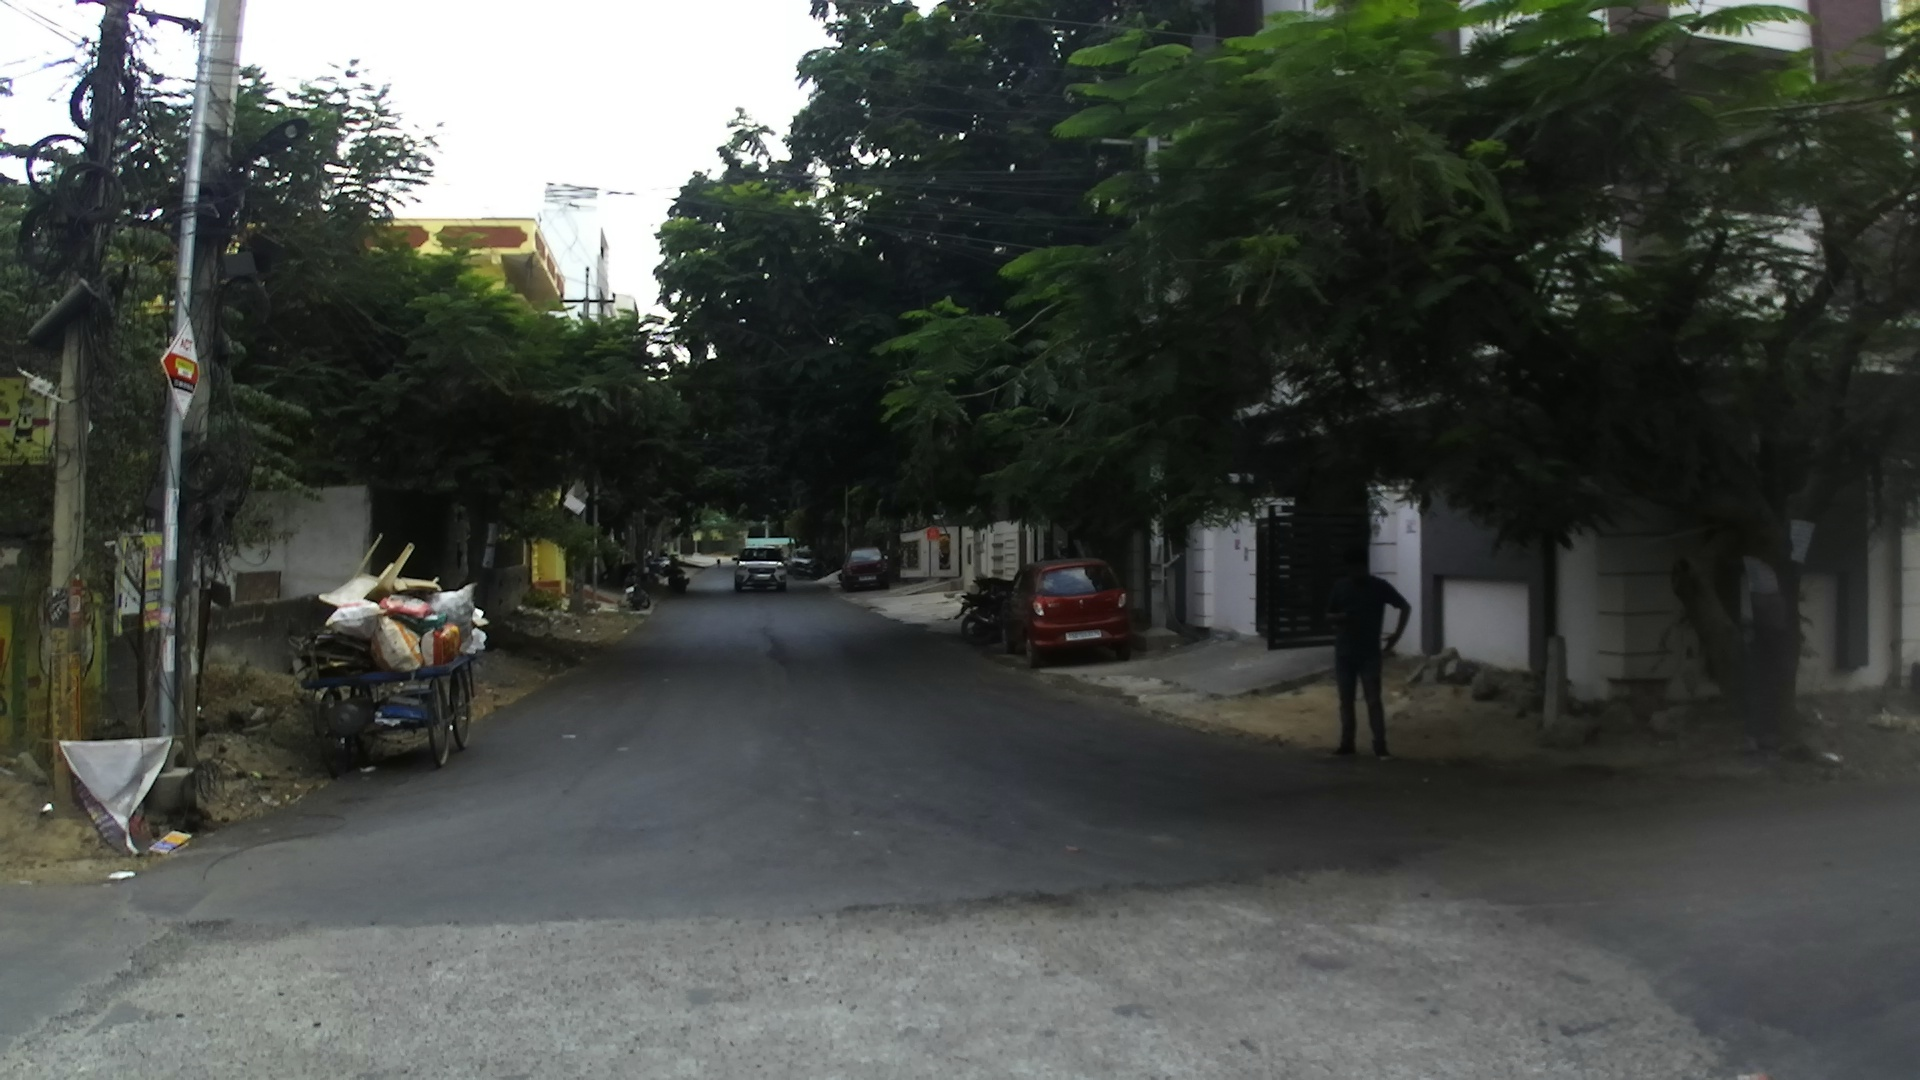vehicle: (295, 582, 485, 774), (957, 558, 1135, 666), (840, 549, 891, 589)
